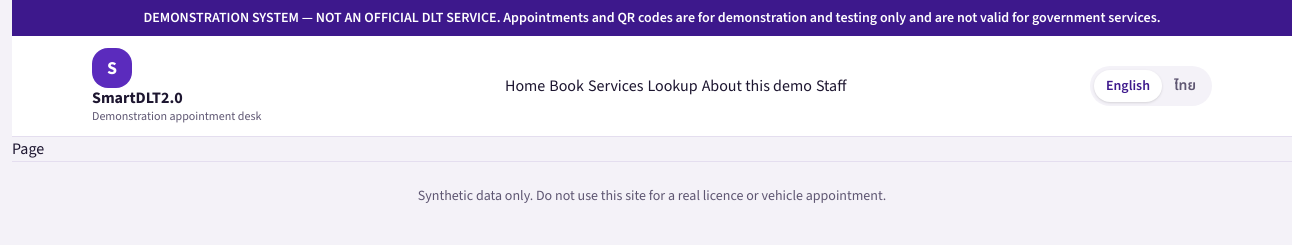
Test: demonstration interface › switches visible copy to Thai
This screenshot has width=1292, height=245.
What coordinates should you click on to do the following:
click the button "ไทย"
I would click on:
 (1185, 86)
Its box is [1162,70,1208,102].
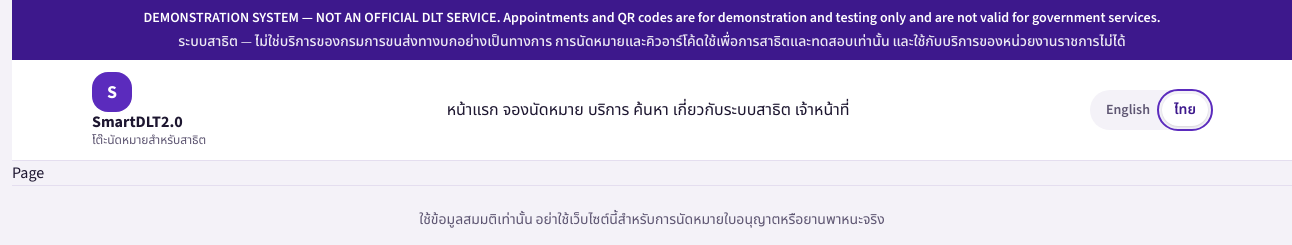
Expected: the link "หน้าแรก" is shown, [447,98,499,122]
